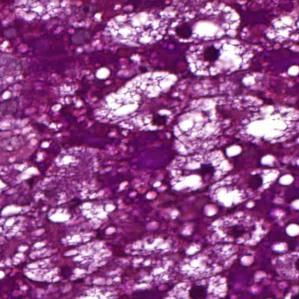ballooning: (93, 69, 180, 122), (166, 149, 235, 194), (161, 7, 241, 44), (181, 36, 249, 77)
